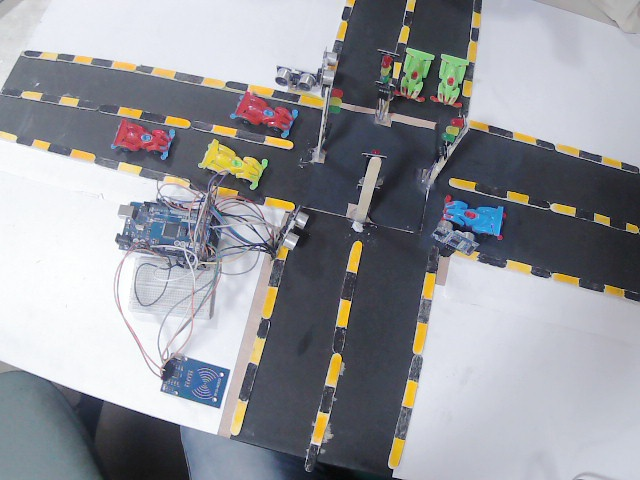car: (235, 82, 298, 136), (205, 137, 263, 189), (446, 192, 503, 240), (115, 118, 175, 160), (406, 42, 433, 103), (440, 51, 465, 111)
traffic_light: (439, 115, 466, 156), (361, 148, 377, 191), (377, 57, 395, 91), (332, 84, 347, 119)
uno_breadboard: (120, 192, 221, 274), (162, 345, 220, 410)
